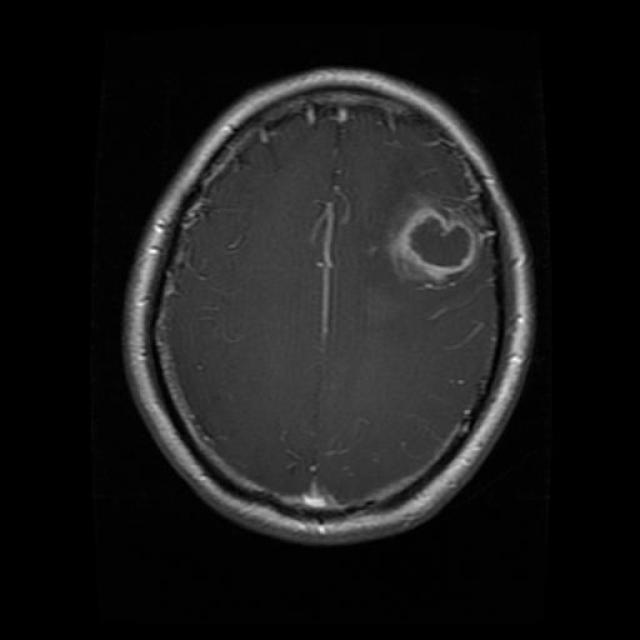glioma: (387, 180, 483, 302)
